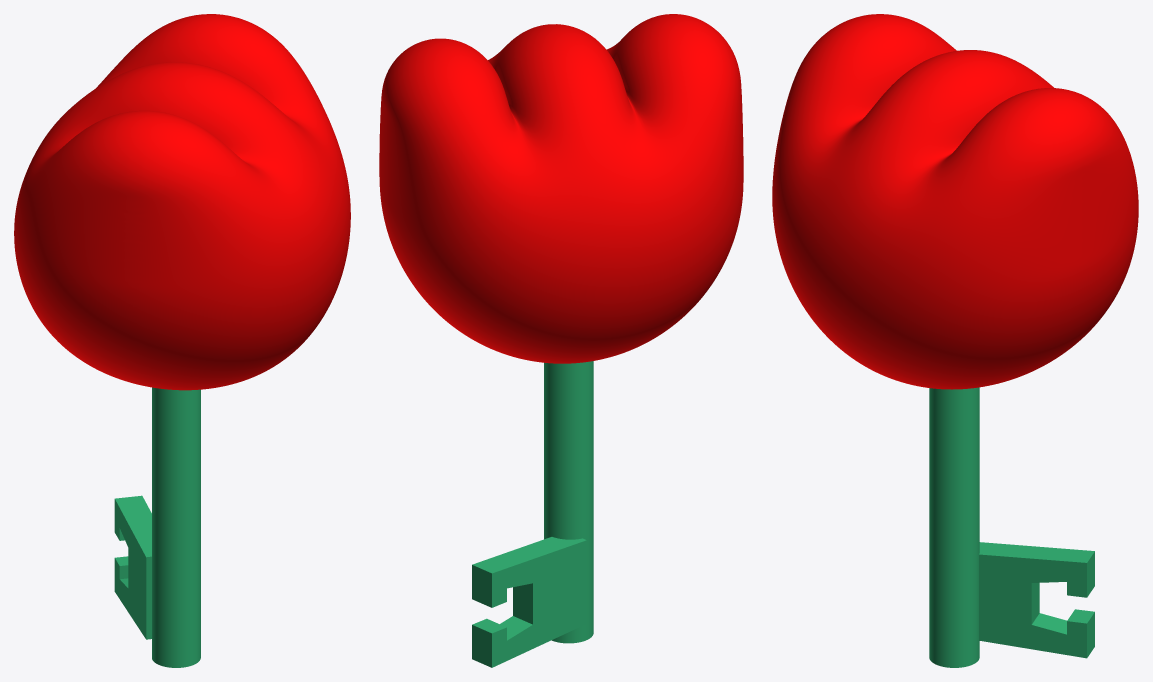
The model's file is tulipe.gltf.
The picture shows the model from 3 angles, left to right: view 1: azimuth 30°, elevation 25°; view 2: azimuth 150°, elevation 25°; view 3: azimuth 270°, elevation 25°; orthographic projection. The views are drawn at different scales.
Parts seen in each view (by area): view 1: model 10, Cylindre, model 9; view 2: model 10, model 9, Cylindre; view 3: model 10, Cylindre, model 9.
Part boxes in pixels (box(x1,y1,x2,y2)): model 10: box(14, 14, 350, 390); Cylindre: box(152, 387, 200, 667); model 9: box(114, 495, 151, 639); model 10: box(379, 14, 743, 363); model 9: box(472, 537, 586, 667); Cylindre: box(544, 361, 593, 643); model 10: box(772, 14, 1138, 389); Cylindre: box(929, 387, 979, 667); model 9: box(979, 542, 1094, 658).
Bounding box in the file's own units: 0.1079 × 0.1951 × 0.1076.
